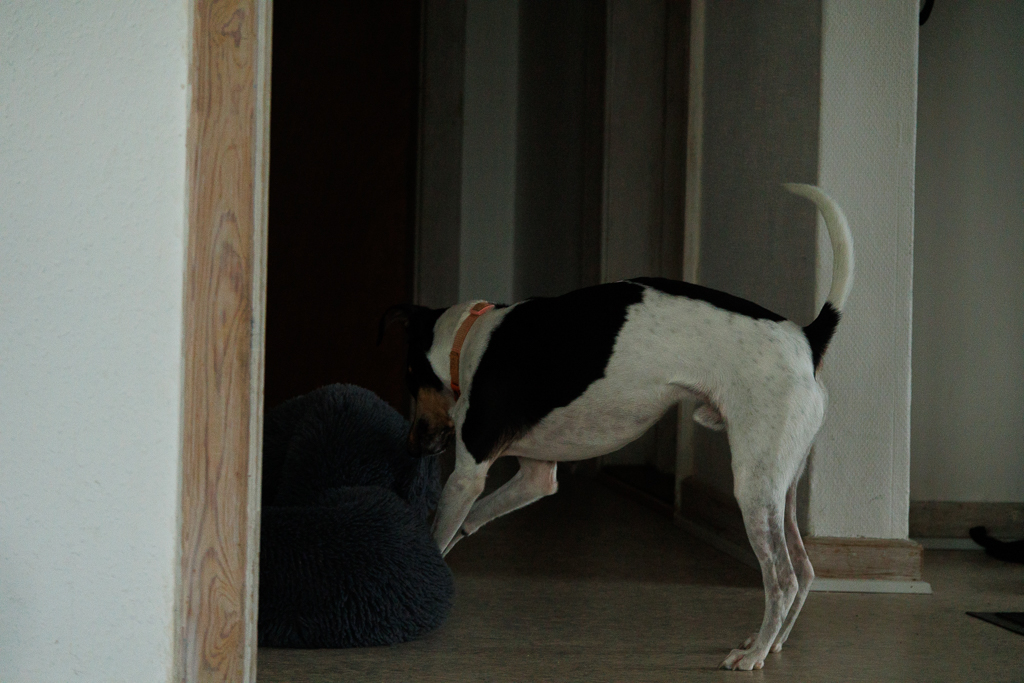Dog: (364, 177, 864, 674)
